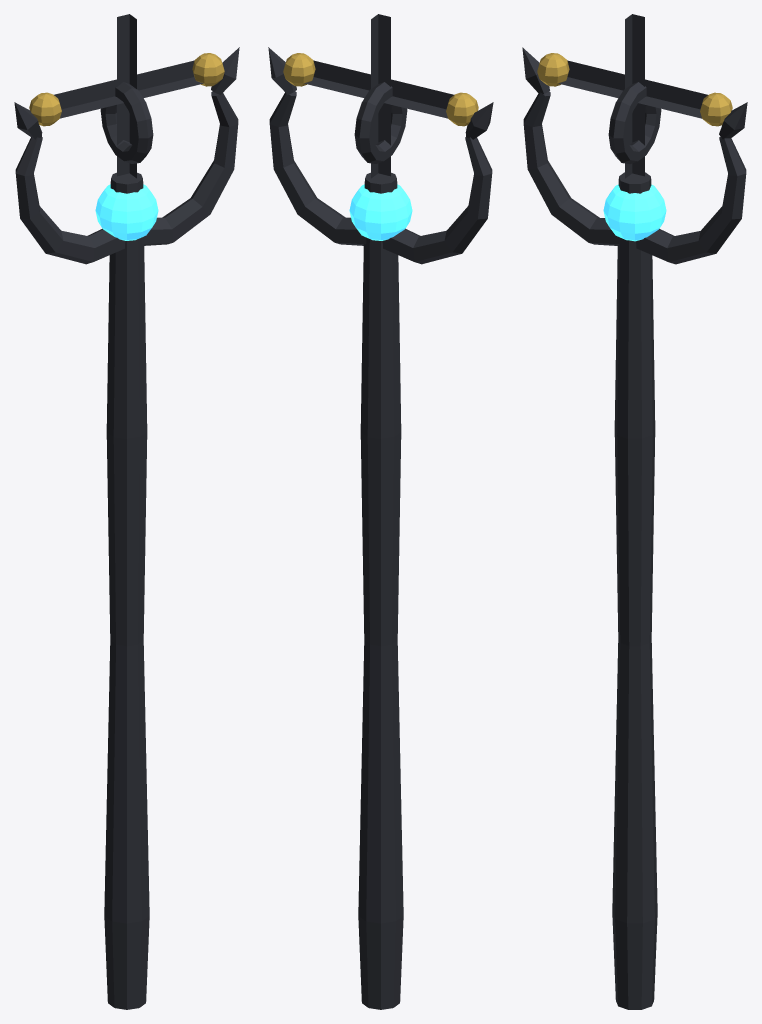
Rendered from staff_anchor.glb.
3 renders of one model, left to right at view 1: azimuth 30°, elevation 25°; view 2: azimuth 150°, elevation 25°; view 3: azimuth 330°, elevation 25°, orthographic.
Visible parts, largest first — view 1: Anc_Shaft, Anc_Fluke0, Anc_Fluke1, Anc_Cross, Anc_Gem, Anc_Ring, Anc_Stock, Anc_CrossTip1, Anc_CrossTip0, Anc_Tip0, Anc_Tip1; view 2: Anc_Shaft, Anc_Fluke0, Anc_Fluke1, Anc_Cross, Anc_Gem, Anc_Ring, Anc_Stock, Anc_CrossTip1, Anc_CrossTip0, Anc_Tip0, Anc_Tip1; view 3: Anc_Shaft, Anc_Fluke1, Anc_Fluke0, Anc_Cross, Anc_Gem, Anc_Ring, Anc_Stock, Anc_CrossTip0, Anc_CrossTip1, Anc_Tip1, Anc_Tip0.
Part boxes in pixels (x1,y1,x2,y2): Anc_Shaft: (104,172,149,1009); Anc_Fluke0: (15,137,125,264); Anc_Fluke1: (141,91,238,245); Anc_Cross: (54,60,203,118); Anc_Gem: (95,184,158,240); Anc_Ring: (100,82,153,163); Anc_Stock: (117,14,136,178); Anc_CrossTip1: (192,53,224,86); Anc_CrossTip0: (29,92,61,126); Anc_Tip0: (14,102,42,139); Anc_Tip1: (211,47,239,94); Anc_Shaft: (358,172,403,1009); Anc_Fluke0: (382,137,492,264); Anc_Fluke1: (269,91,366,245); Anc_Cross: (304,60,453,118); Anc_Gem: (349,184,412,240); Anc_Ring: (354,82,407,163); Anc_Stock: (371,14,390,178); Anc_CrossTip1: (283,53,315,86); Anc_CrossTip0: (446,92,478,126); Anc_Tip0: (465,102,493,139); Anc_Tip1: (268,47,296,94); Anc_Shaft: (612,172,657,1009); Anc_Fluke1: (636,136,746,264); Anc_Fluke0: (523,91,619,245); Anc_Cross: (558,60,707,118); Anc_Gem: (603,184,666,241); Anc_Ring: (608,82,661,163); Anc_Stock: (625,14,644,178); Anc_CrossTip0: (537,53,569,86); Anc_CrossTip1: (700,92,732,126); Anc_Tip1: (719,102,747,139); Anc_Tip0: (522,47,549,94).
Bounding box in the file's own units: 0.4289 × 1.79 × 0.142.
